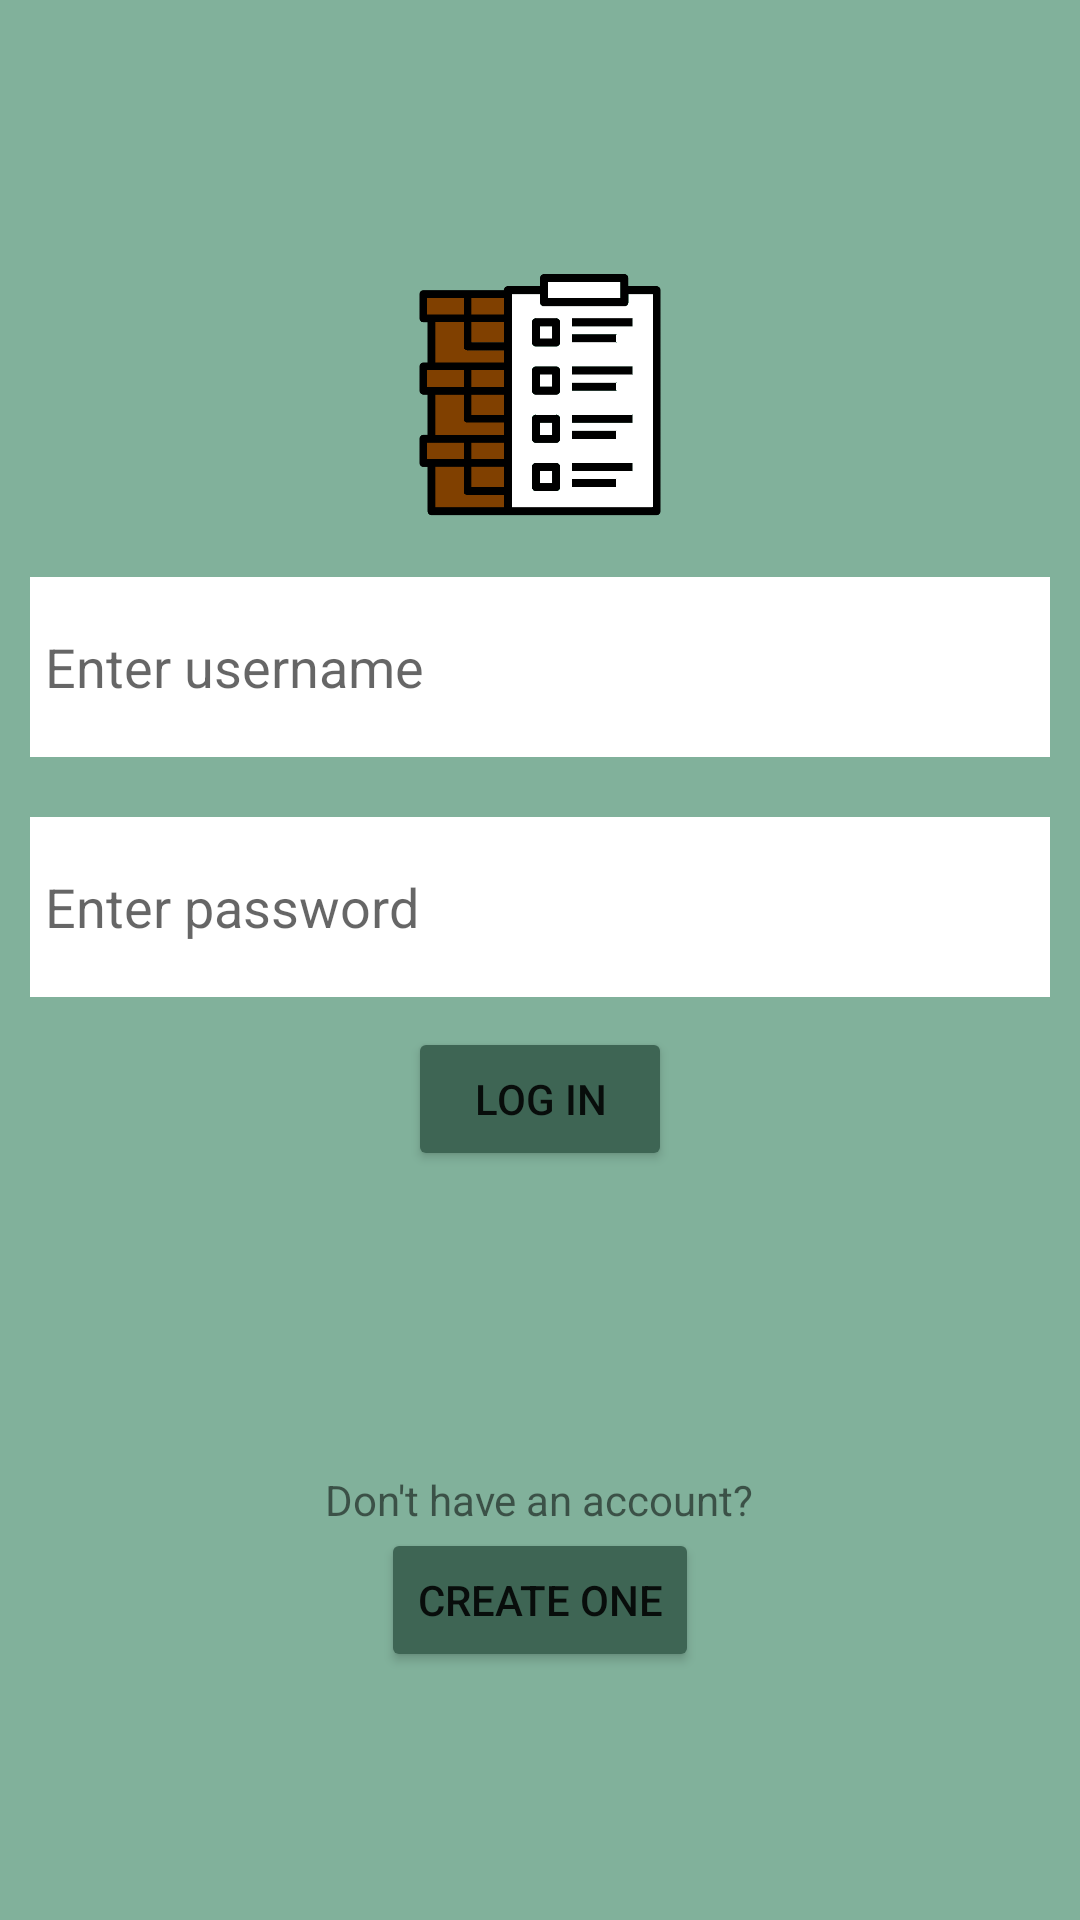

Icons on this 1080px x 1920px Android screen, each with the point to tap as [x,y]:
inventory: [540,394]
